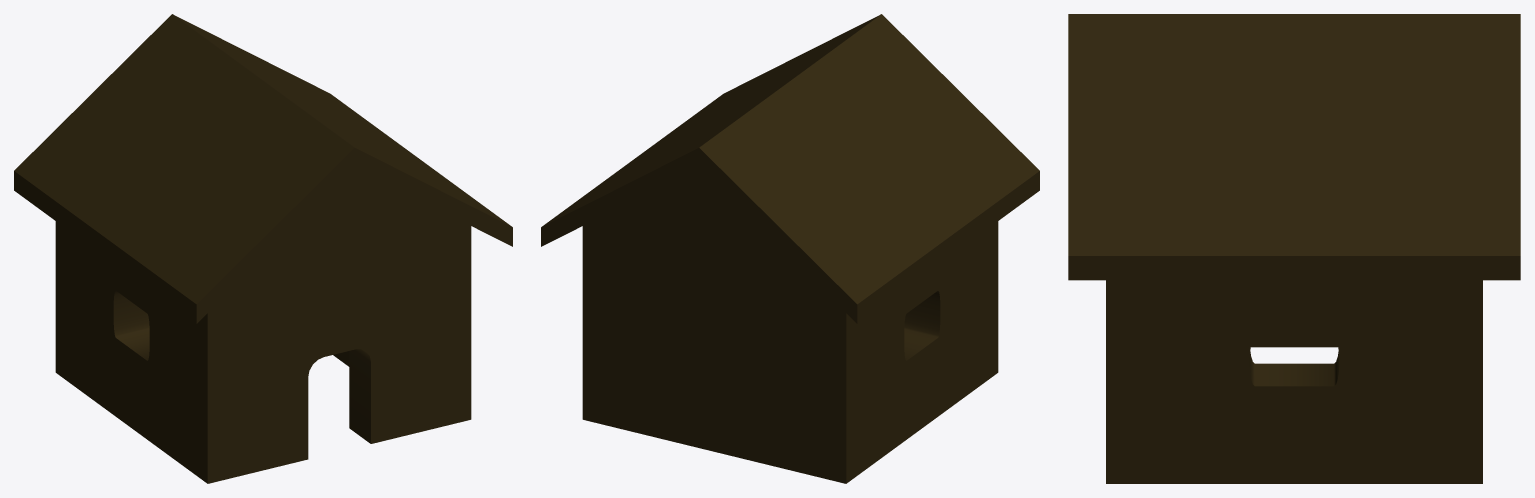
The model's file is House.fbx.
3 renders of one model, left to right at view 1: azimuth 30°, elevation 25°; view 2: azimuth 150°, elevation 25°; view 3: azimuth 270°, elevation 25°, orthographic. The views are drawn at different scales.
Visible parts, largest first — view 1: Cube; view 2: Cube; view 3: Cube.
Part boxes in pixels (x1,y1,x2,y2): Cube: (14,14,512,483); Cube: (541,14,1039,483); Cube: (1068,14,1520,483).
Bounding box in the file's own units: 1680 × 1600 × 1680.
